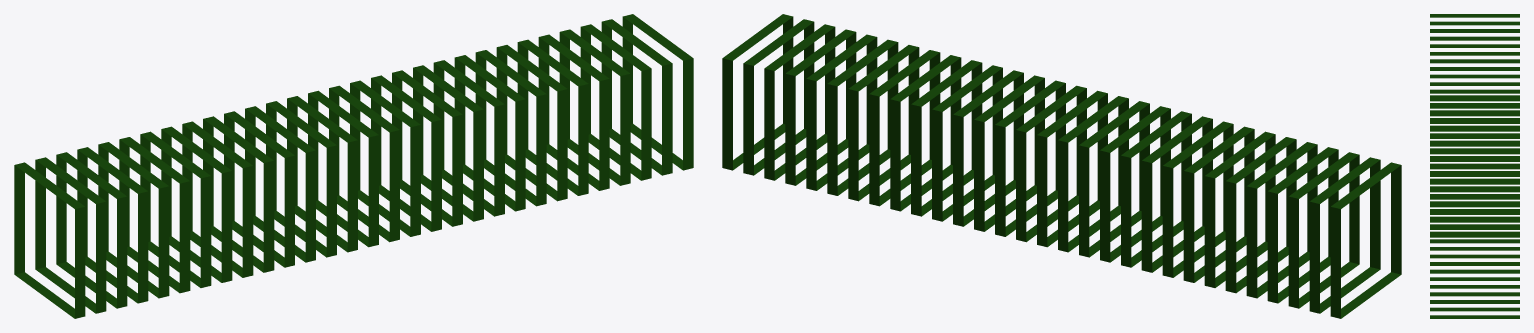
File: tunnel_3.glb
3 renders of one model, left to right at view 1: azimuth 30°, elevation 25°; view 2: azimuth 150°, elevation 25°; view 3: azimuth 270°, elevation 25°, orthographic. The views are drawn at different scales.
Visible parts, largest first — view 1: Cube; view 2: Cube; view 3: Cube.
Part boxes in pixels (box(x1,y1,x2,y2)): Cube: box(14, 14, 693, 318); Cube: box(722, 14, 1401, 318); Cube: box(1430, 14, 1519, 318).
Bounding box in the file's own units: 11.8 × 2 × 2.
